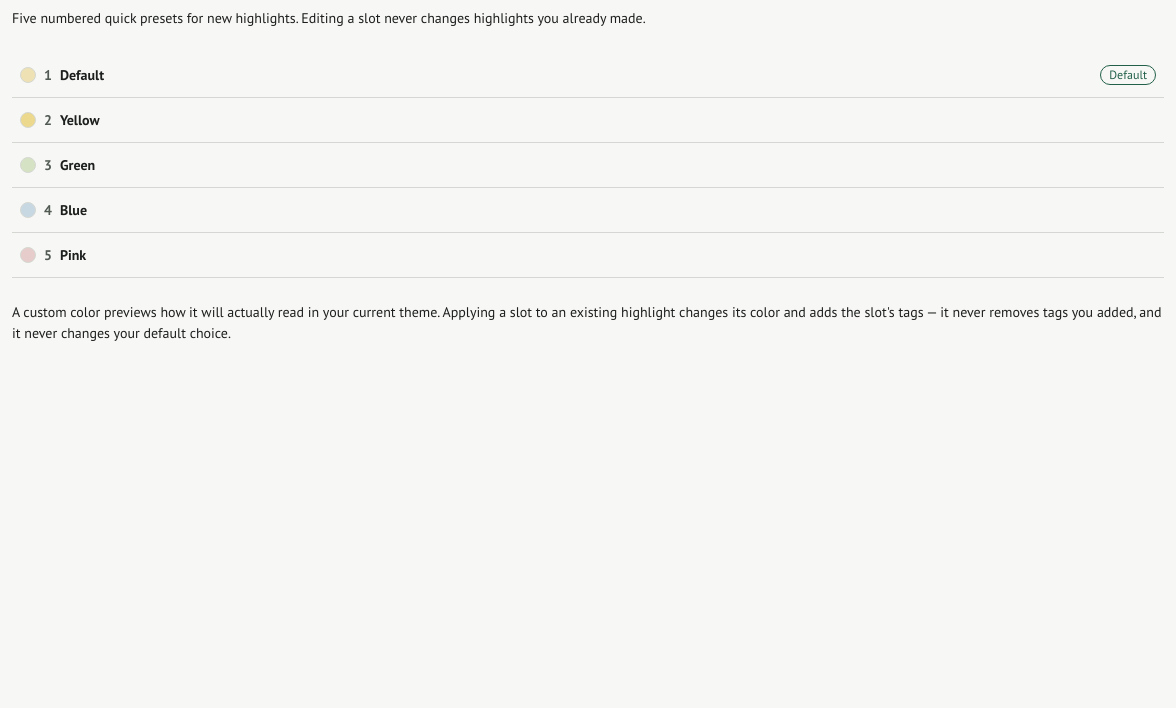
Test: HighlightSlotSettings — the settings accordion (issue #222) › collapsing again (the same row) hides the editor
Click the button "1 Default Default" at coordinates (82, 75), box top-left (12, 53), bottom-right (1164, 97)
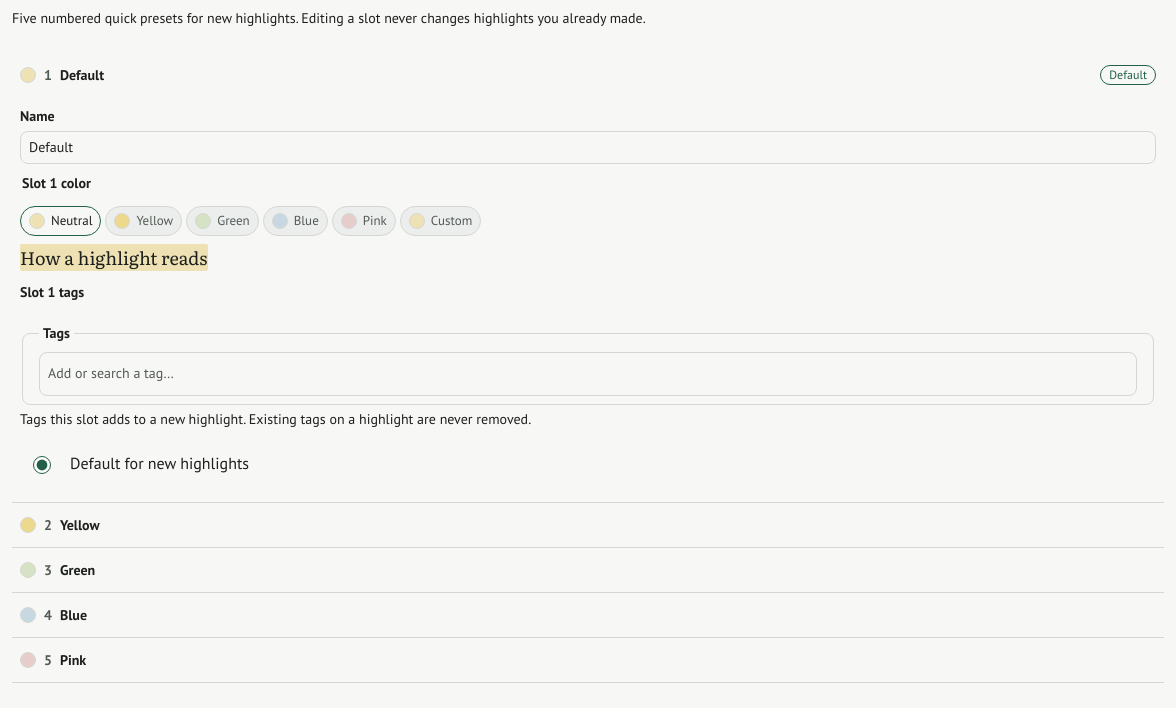
Expected: the field named "Slot 1 name" is shown, top-left (20, 131), bottom-right (1156, 164)
Click the button "1 Default Default" at coordinates (82, 75), box top-left (12, 53), bottom-right (1164, 97)
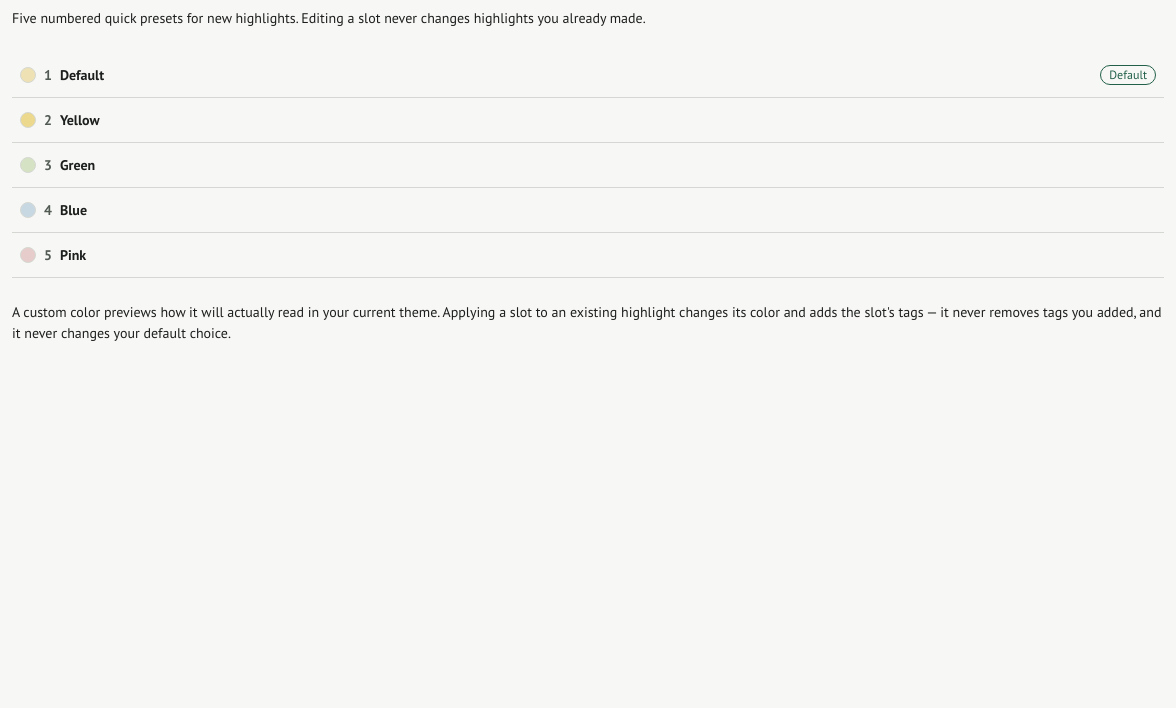
Expected: the field labelled "Slot 1 name" is gone
